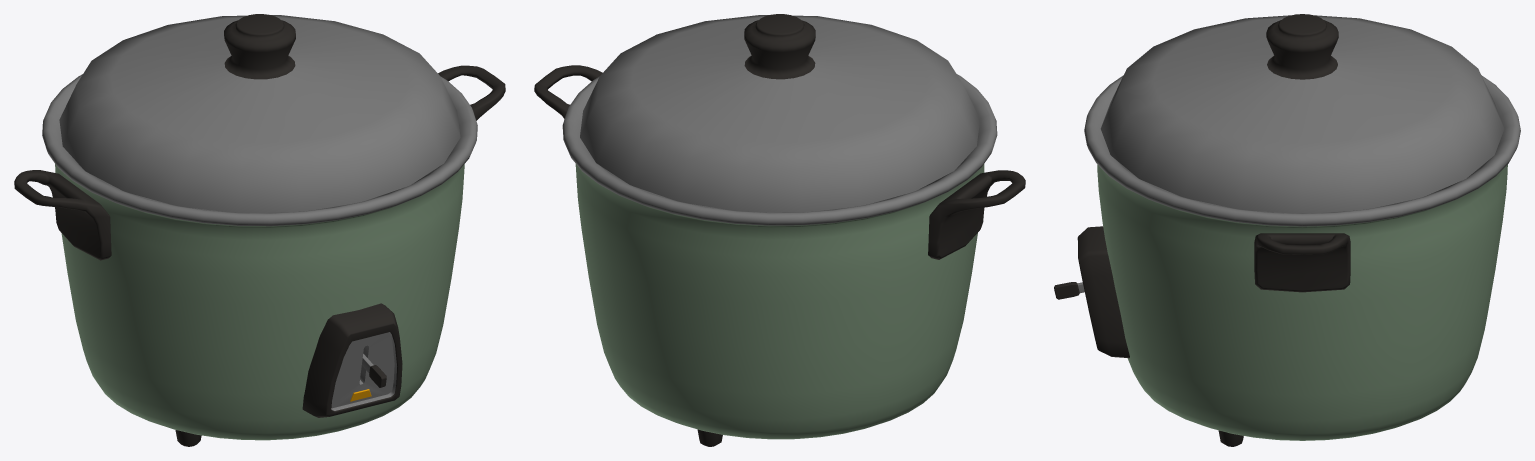
File: SteamCooker.fbx
3 views of the same model, side by side, from view 1: azimuth 30°, elevation 25°; view 2: azimuth 150°, elevation 25°; view 3: azimuth 270°, elevation 25° (orthographic).
Visible parts, largest first — view 1: CookerBody, CaCookerp; view 2: CookerBody, CaCookerp; view 3: CookerBody, CaCookerp.
Part boxes in pixels (x1,y1,x2,y2): CookerBody: (14, 65, 505, 446); CaCookerp: (59, 14, 460, 213); CookerBody: (534, 65, 1025, 446); CaCookerp: (580, 14, 979, 212); CookerBody: (1077, 75, 1520, 446); CaCookerp: (1100, 14, 1504, 213).
Size of the model in its own units: 3.75 by 2.81 by 3.2.
